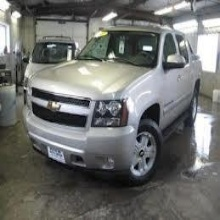no damage: (23, 24, 200, 185)
